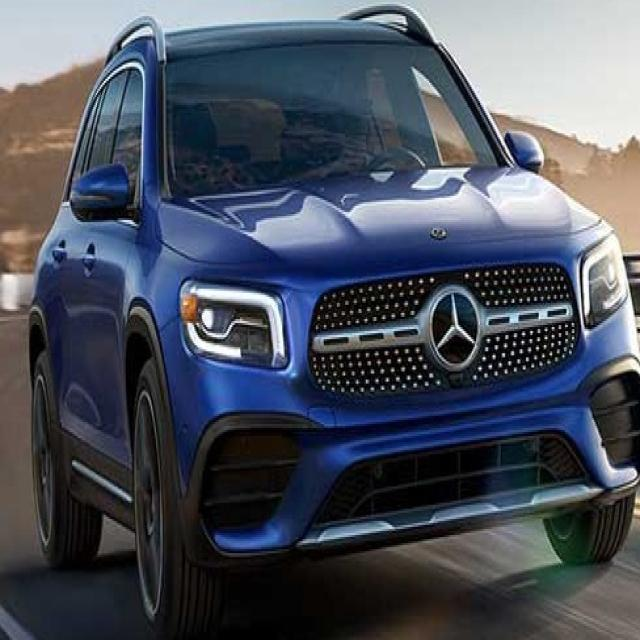blue: (29, 20, 639, 640)
